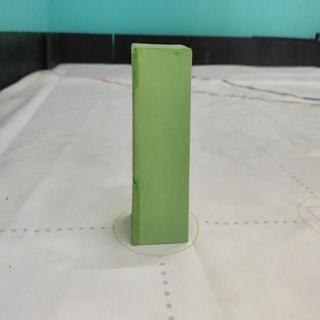greenbox: (129, 41, 191, 245)
